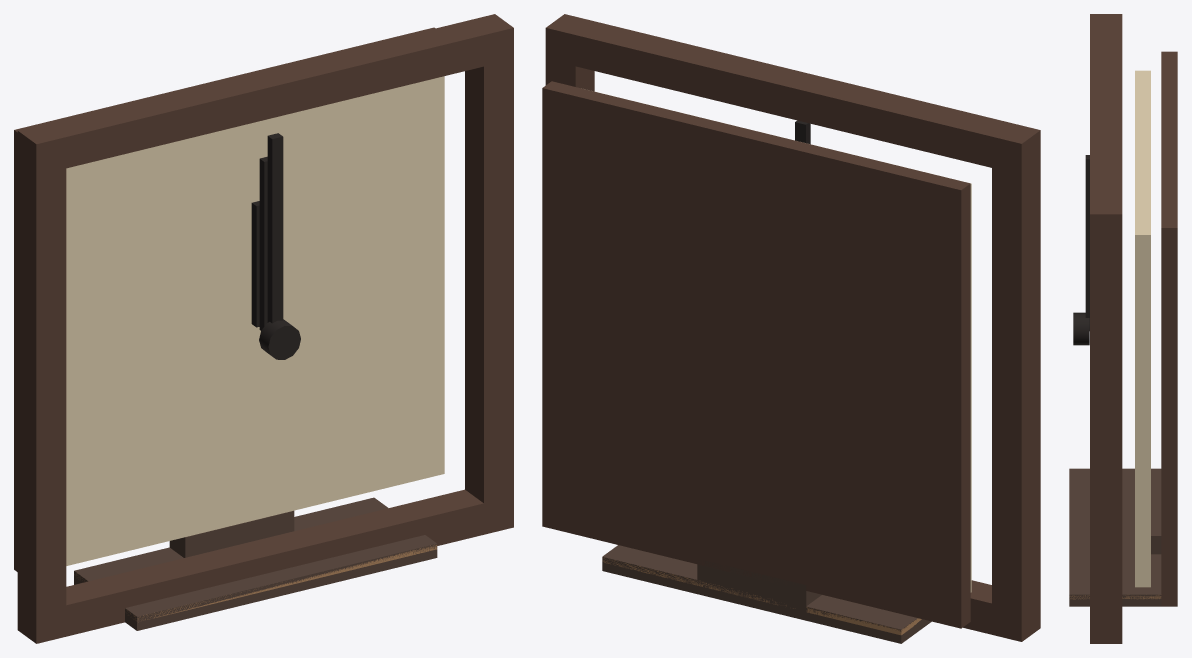
The picture shows the model from 3 angles, left to right: view 1: azimuth 30°, elevation 25°; view 2: azimuth 150°, elevation 25°; view 3: azimuth 270°, elevation 25°; orthographic projection. The views are drawn at different scales.
Visible parts, largest first — view 1: clock-face, clock-square-top, clock-square-left, clock-square-right, clock-square-bottom, clock-base, clock-second-hand, clock-back, clock-display-support, clock-minute-hand, clock-center-cap, clock-base-trim (+1 smaller); view 2: clock-back, clock-square-top, clock-square-left, clock-base, clock-display-support, clock-square-bottom, clock-base-trim, clock-square-right, clock-face; view 3: clock-square-right, clock-back, clock-face, clock-square-top, clock-base, clock-square-bottom, clock-second-hand, clock-display-support, clock-center-cap.
Boxes of the visible parts, bbox=[...] form: clock-face: bbox=[66, 76, 444, 565]; clock-square-top: bbox=[17, 14, 513, 175]; clock-square-left: bbox=[17, 162, 66, 612]; clock-square-right: bbox=[465, 59, 513, 503]; clock-square-bottom: bbox=[17, 489, 513, 643]; clock-base: bbox=[74, 497, 437, 630]; clock-second-hand: bbox=[267, 133, 283, 323]; clock-back: bbox=[14, 27, 435, 571]; clock-display-support: bbox=[169, 510, 294, 557]; clock-minute-hand: bbox=[259, 156, 267, 330]; clock-center-cap: bbox=[259, 319, 300, 359]; clock-base-trim: bbox=[74, 544, 437, 622]; clock-back: bbox=[542, 81, 970, 628]; clock-square-top: bbox=[545, 14, 1040, 175]; clock-square-left: bbox=[992, 162, 1040, 610]; clock-base: bbox=[602, 545, 931, 643]; clock-display-support: bbox=[697, 560, 821, 613]; clock-square-bottom: bbox=[963, 580, 1040, 641]; clock-base-trim: bbox=[602, 557, 921, 635]; clock-square-right: bbox=[545, 59, 594, 91]; clock-face: bbox=[970, 183, 971, 592]; clock-square-right: bbox=[1090, 241, 1122, 616]; clock-back: bbox=[1161, 51, 1177, 606]; clock-face: bbox=[1135, 70, 1150, 587]; clock-square-top: bbox=[1090, 14, 1122, 241]; clock-base: bbox=[1069, 468, 1177, 606]; clock-square-bottom: bbox=[1090, 617, 1122, 643]; clock-second-hand: bbox=[1085, 155, 1089, 330]; clock-display-support: bbox=[1151, 490, 1161, 554]; clock-center-cap: bbox=[1073, 312, 1089, 345].
Bounding box in the file's own units: 0.35 × 0.35 × 0.08.
